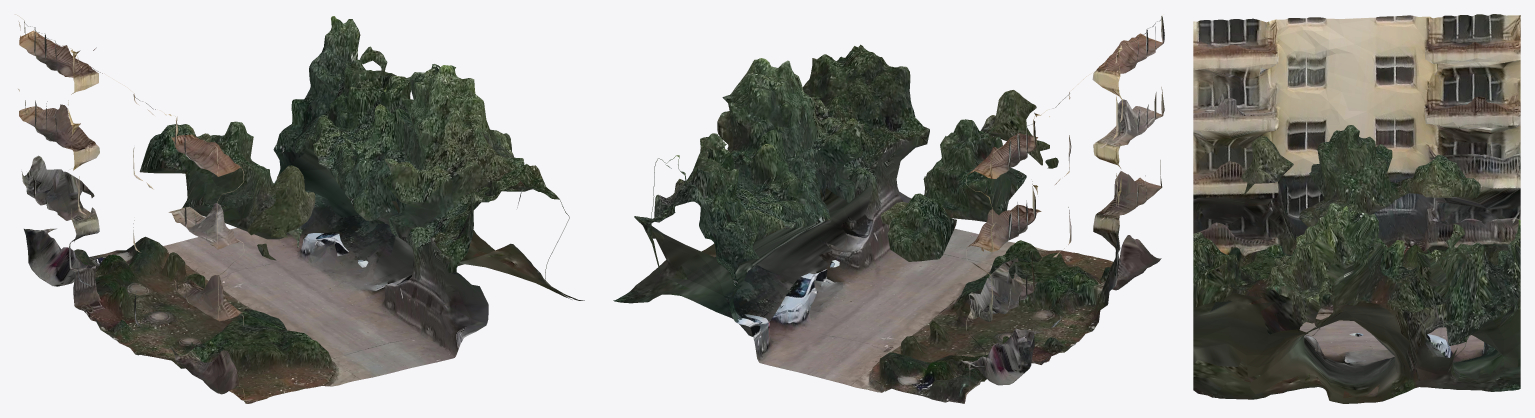
File: BlockBBYX_L21_78.glb
3 views of the same model, side by side, from view 1: azimuth 30°, elevation 25°; view 2: azimuth 150°, elevation 25°; view 3: azimuth 270°, elevation 25° (orthographic). The views are drawn at different scales.
Parts seen in each view (by area): view 1: rtc; view 2: rtc; view 3: rtc.
Boxes of the visible parts, x1,y1,x2,y2 form: rtc: (15,14,584,403); rtc: (613,14,1164,403); rtc: (1193,14,1520,403).
Size of the model in its own units: 16.66 by 11.15 by 14.01.
4 materials, 4 textured.
